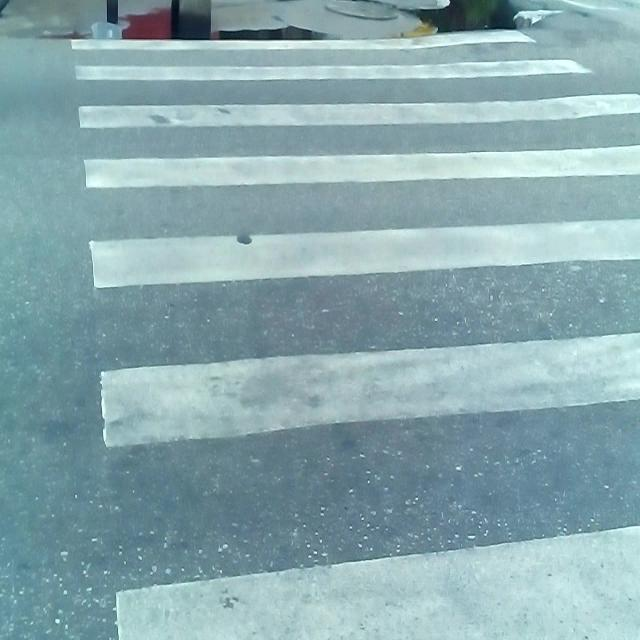crosswalk: (67, 26, 640, 640)
